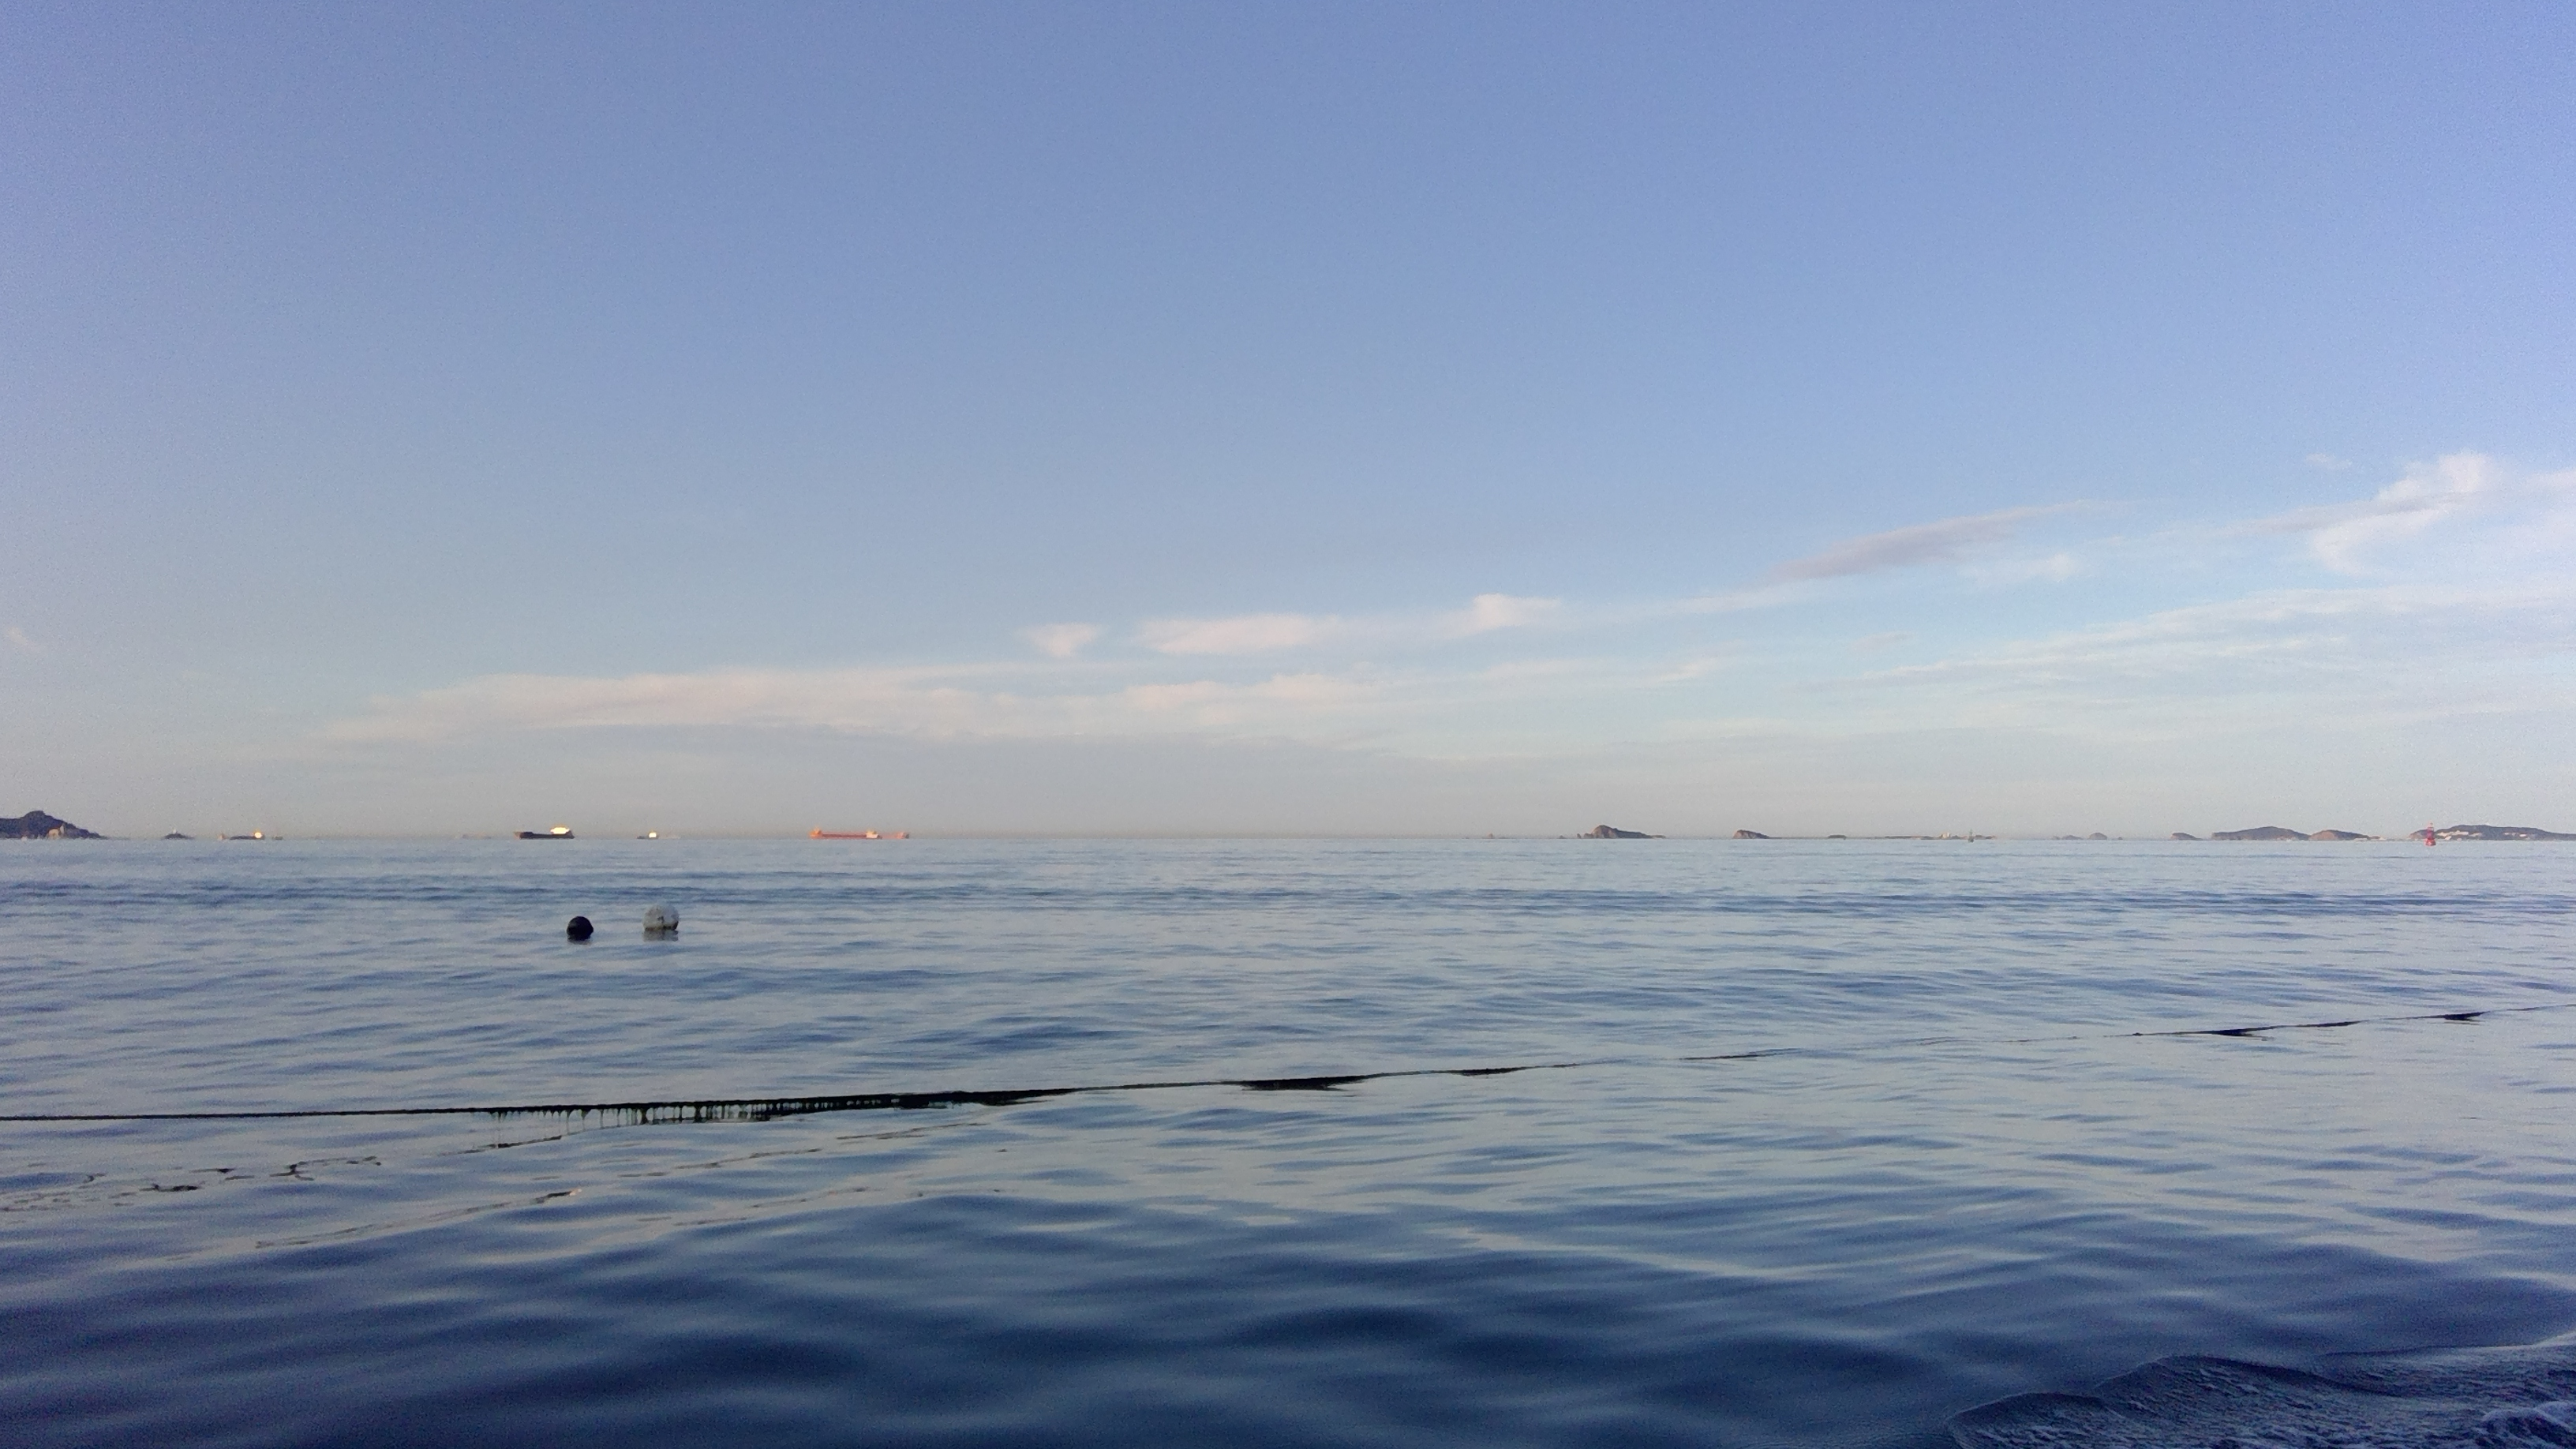ball: (545, 899, 598, 954), (639, 902, 686, 955)
buoy: (2408, 805, 2456, 872)
platform: (816, 817, 920, 849)
rock: (2158, 800, 2373, 853), (0, 789, 111, 840), (2408, 816, 2576, 846), (1578, 812, 1658, 842), (1736, 812, 1775, 849)
ship: (511, 819, 589, 853)
